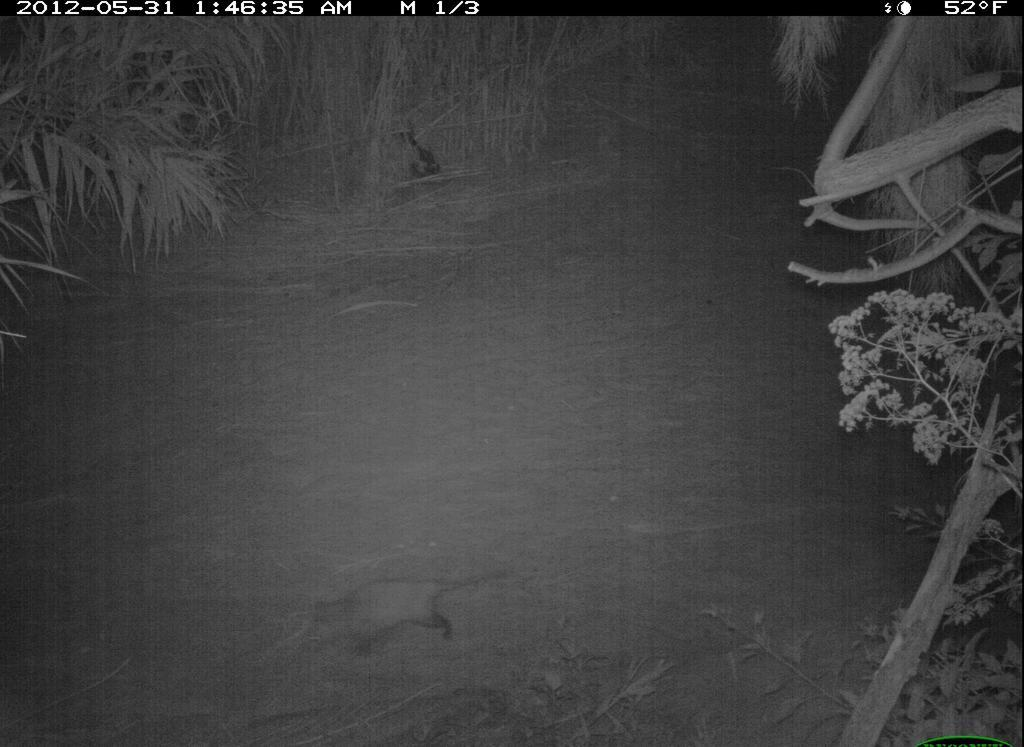opossum: (297, 569, 514, 665)
